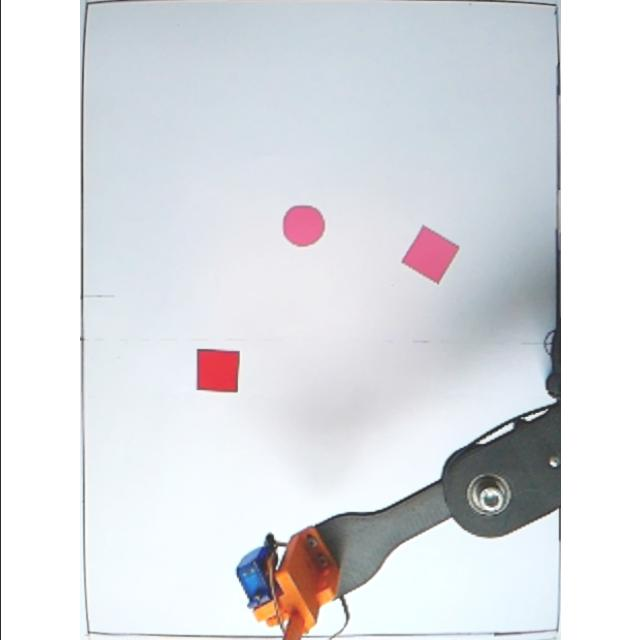pinkCircle: (282, 204, 328, 250)
pinkSquare: (401, 223, 461, 284)
redSquare: (193, 348, 244, 392)
